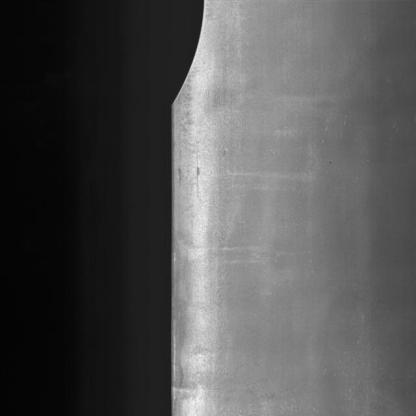crescent_gap: (162, 1, 207, 111)
